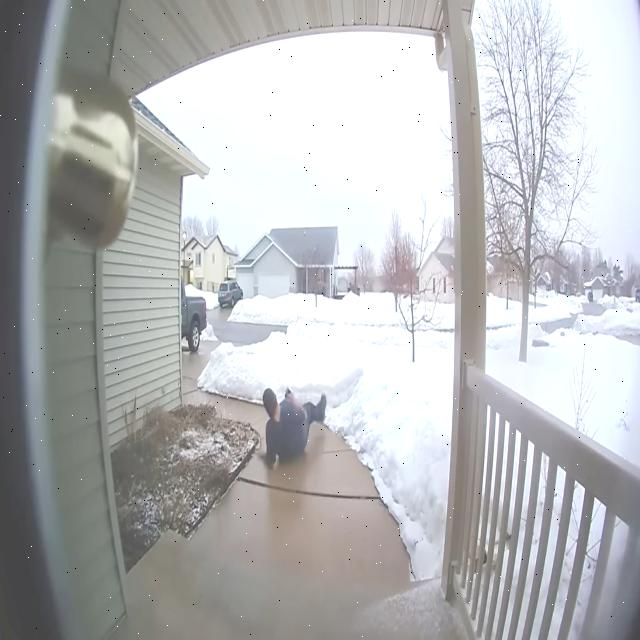fallen: (262, 388, 326, 468)
